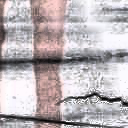crackTip: (1, 90, 128, 127)
